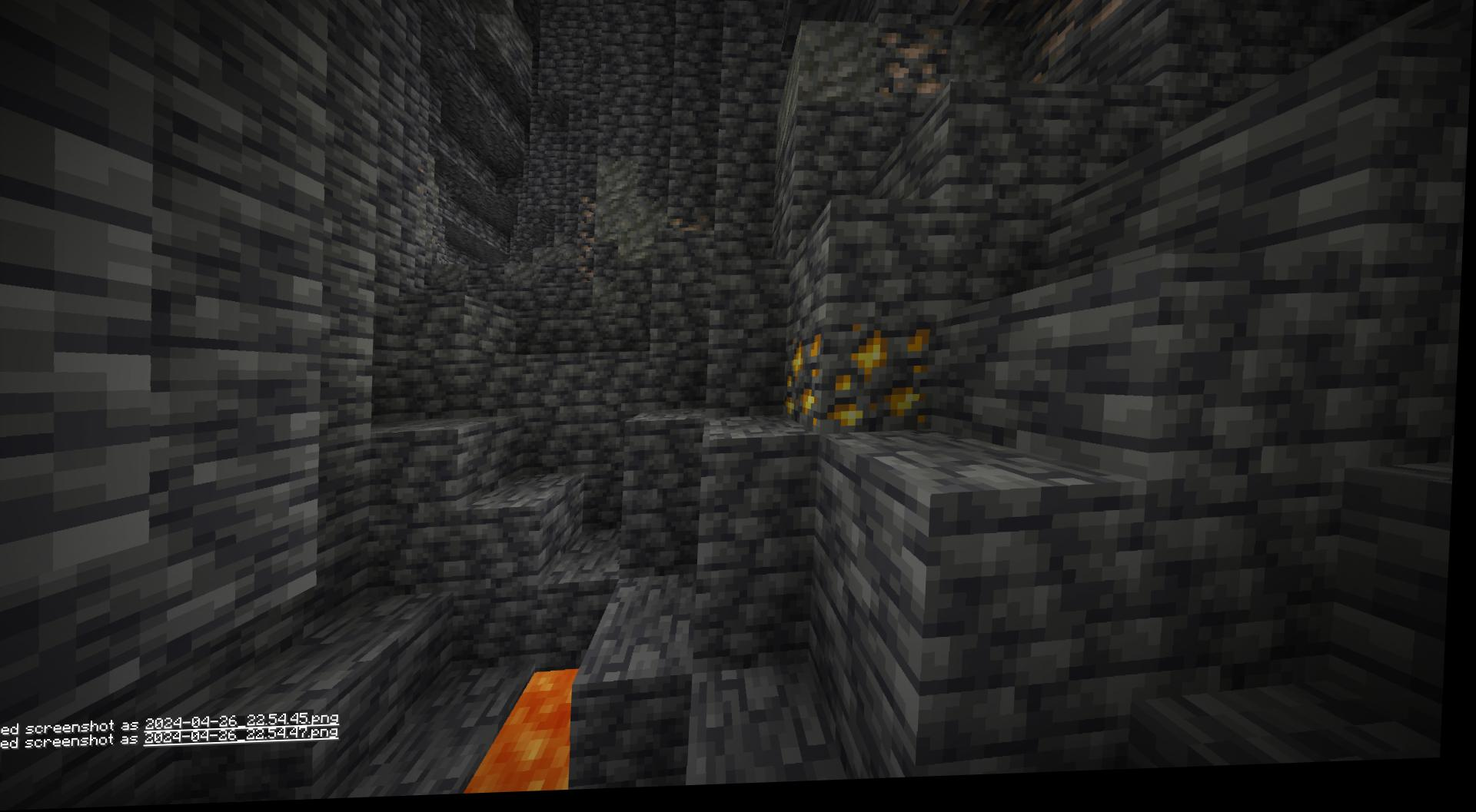gold ore: (827, 327, 935, 434), (785, 339, 831, 426)
iron ore: (1034, 0, 1156, 81), (877, 36, 950, 109), (955, 0, 1069, 27), (572, 203, 606, 278)
